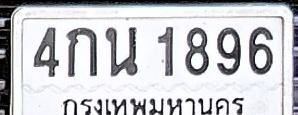1: (157, 26, 173, 76)
4: (33, 26, 59, 77)
6: (248, 26, 273, 74)
8: (184, 26, 208, 76)
9: (217, 27, 240, 75)
A01: (66, 27, 97, 77)
A25: (104, 26, 138, 76)
BKK: (58, 90, 251, 115)
